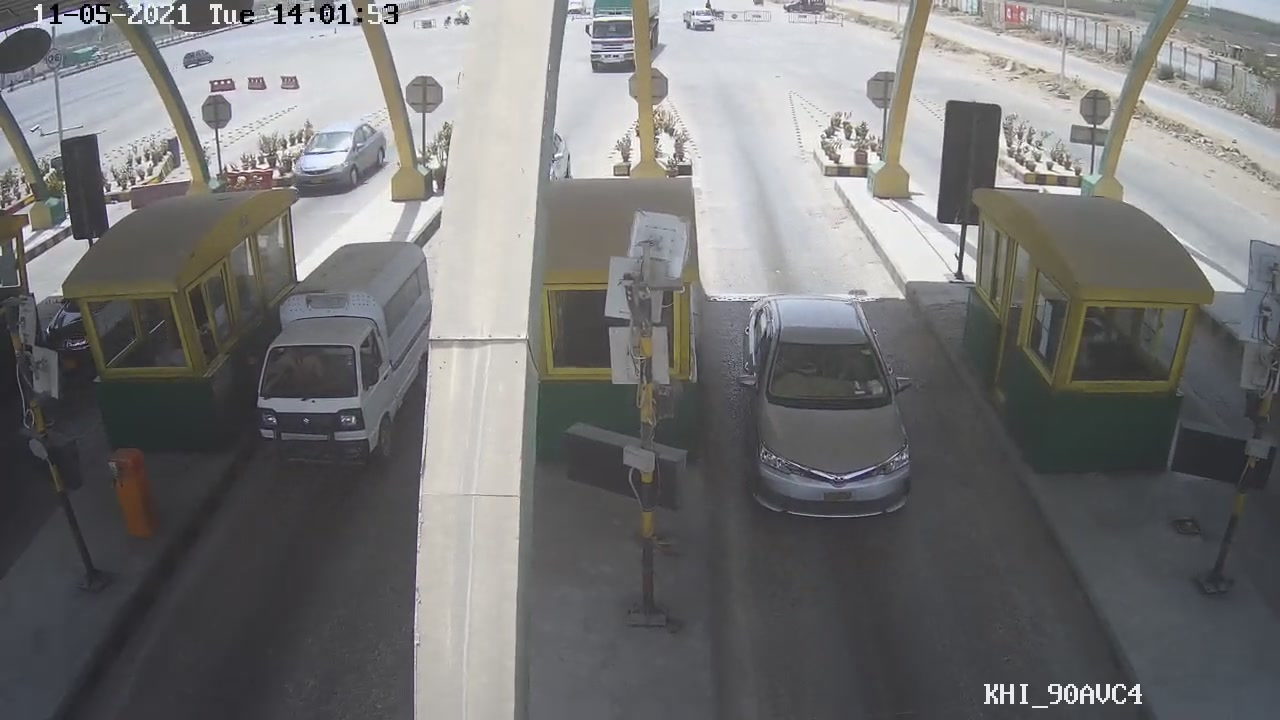F1: (727, 284, 915, 527)
